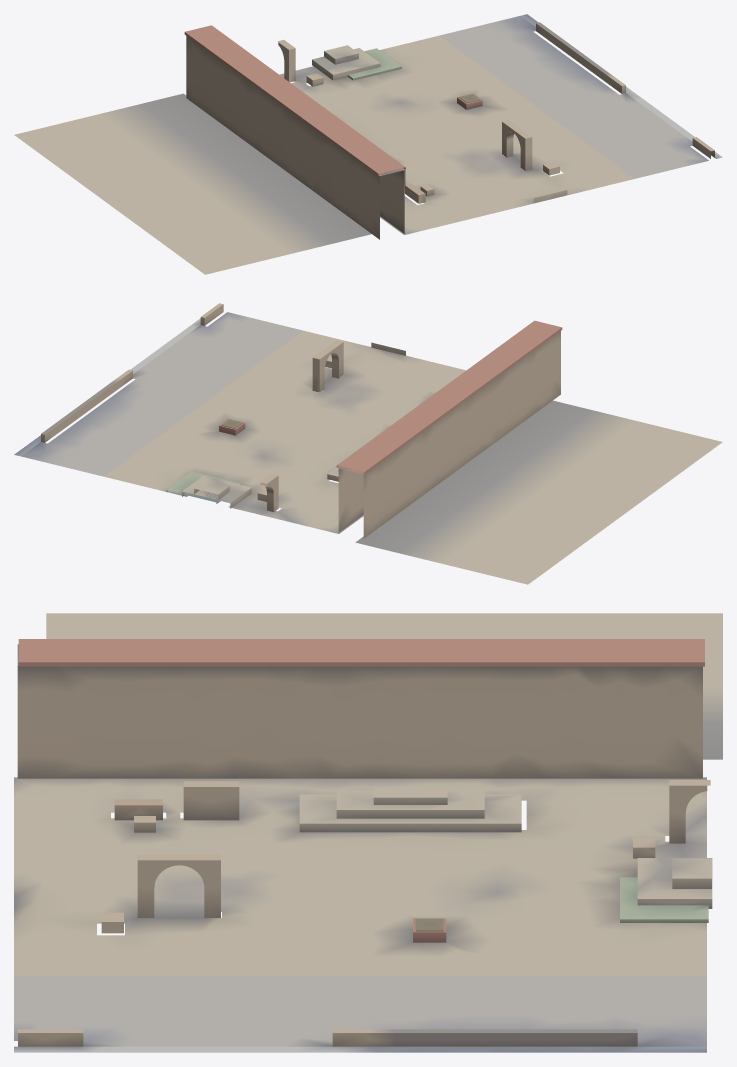
The picture shows the model from 3 angles, top to bottom: view 1: azimuth 30°, elevation 25°; view 2: azimuth 150°, elevation 25°; view 3: azimuth 270°, elevation 25°; orthographic projection. The views are drawn at different scales.
Parts seen in each view (by area): view 1: t; view 2: t; view 3: t.
Boxes of the visible parts, left/top/right/bottom form: t: left=14, top=14, right=722, bottom=274; t: left=14, top=303, right=722, bottom=584; t: left=14, top=613, right=722, bottom=1052.
Bounding box in the file's own units: 75 × 9.35 × 51.16.
